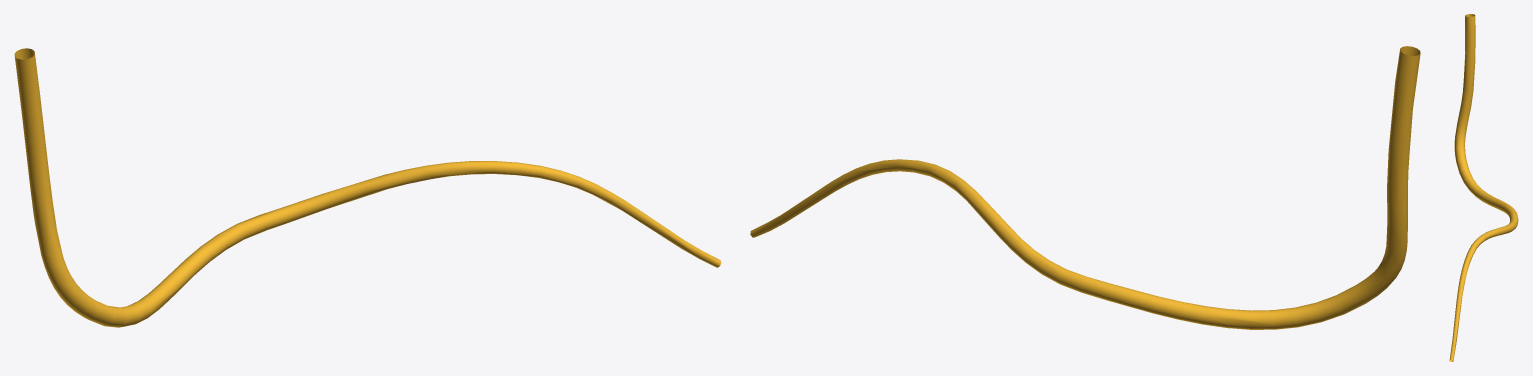
Rendered from nervoso-deep-branch-of-ulnar-nerve-l.glb.
3 renders of one model, left to right at view 1: azimuth 30°, elevation 25°; view 2: azimuth 150°, elevation 25°; view 3: azimuth 270°, elevation 25°, orthographic. The views are drawn at different scales.
Visible parts, largest first — view 1: Deep branch of ulnar nerve.l; view 2: Deep branch of ulnar nerve.l; view 3: Deep branch of ulnar nerve.l.
Part boxes in pixels (x1,y1,x2,y2): Deep branch of ulnar nerve.l: (14, 48, 721, 327); Deep branch of ulnar nerve.l: (750, 46, 1420, 329); Deep branch of ulnar nerve.l: (1449, 14, 1518, 361).
Size of the model in its own units: 0.0375 by 0.0191 by 0.00653.
